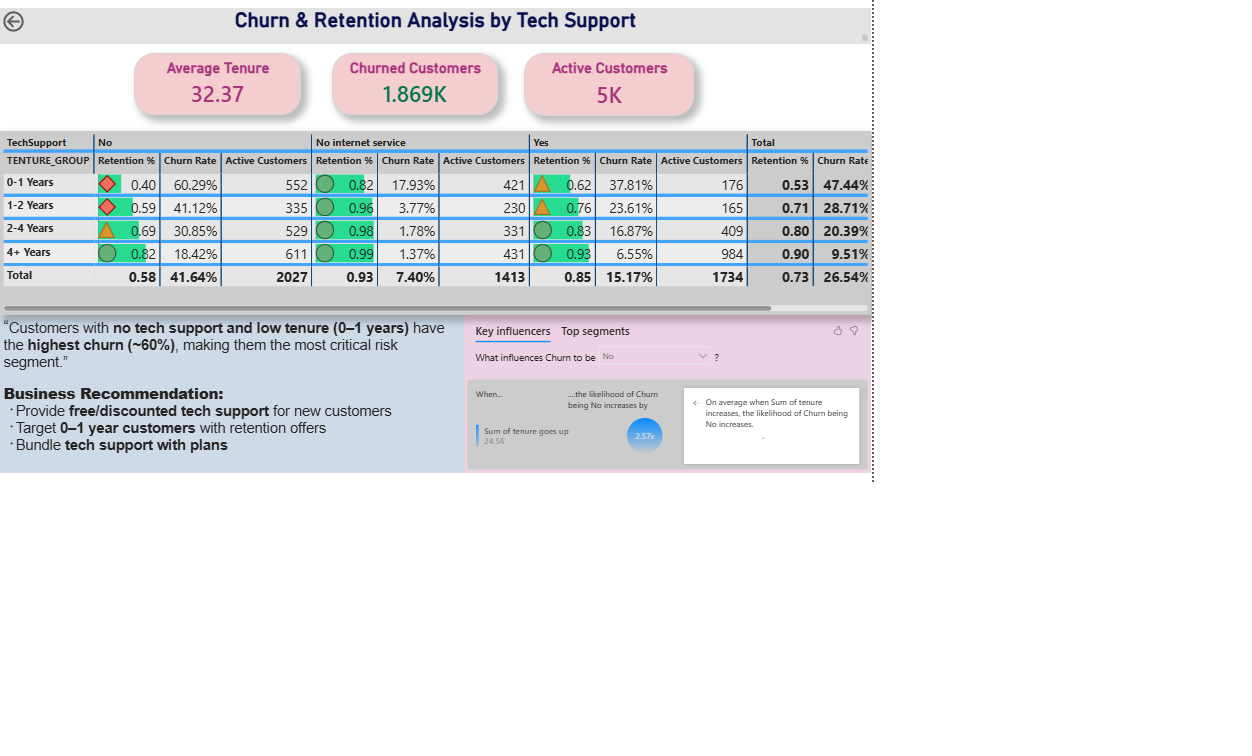

The page's visual inventory and layout, read from the dashboard file:
{"tool":"powerbi","page":{"name":"retention analysis","canvas":[1280,720],"ordinal":1},"visuals":[{"type":"pivotTable","fields":{"Rows":["WA_Fn-UseC_-Telco-Customer-Churn.TENTURE_GROUP"],"Values":["WA_Fn-UseC_-Telco-Customer-Churn.Retention %","WA_Fn-UseC_-Telco-Customer-Churn.Churn Rate","WA_Fn-UseC_-Telco-Customer-Churn.Active Customers"],"Columns":["WA_Fn-UseC_-Telco-Customer-Churn.TechSupport"]},"box":[0,201.6,1280,270.4],"z":0},{"type":"textbox","box":[0,471.7,681.8,232.2],"z":1000},{"type":"textbox","title":"Churn & Retention Analysis by   Tech Support","box":[0,20.6,1279.8,52.9],"z":2000},{"type":"actionButton","box":[0,20.6,99.9,39.7],"z":3000},{"type":"cardVisual","title":"Average Tenure","fields":{"Data":["WA_Fn-UseC_-Telco-Customer-Churn.Avg Tenure"]},"box":[196.5,87.3,245.2,90.7],"z":4000},{"type":"cardVisual","title":"Active Customers","fields":{"Data":["WA_Fn-UseC_-Telco-Customer-Churn.Active Customers"]},"box":[769.3,87.3,250.3,92.4],"z":5000},{"type":"cardVisual","title":"Churned Customers","fields":{"Data":["CountNonNull(WA_Fn-UseC_-Telco-Customer-Churn.customerID)"]},"box":[487.1,87.3,243.6,90.7],"z":6000},{"type":"keyDriversVisual","fields":{"ExplainBy":["Sum(WA_Fn-UseC_-Telco-Customer-Churn.tenure)","WA_Fn-UseC_-Telco-Customer-Churn.TechSupport","WA_Fn-UseC_-Telco-Customer-Churn.OnlineSecurity","WA_Fn-UseC_-Telco-Customer-Churn.InternetService","WA_Fn-UseC_-Telco-Customer-Churn.PaymentMethod","Sum(WA_Fn-UseC_-Telco-Customer-Churn.MonthlyCharges)"],"Target":["WA_Fn-UseC_-Telco-Customer-Churn.Churn"]},"box":[681.8,471.7,598,232.2],"z":6001}]}

Visuals, with their boxes on the page's 1280x720 design canvas (x1, y1, x2, y2). These are canvas units, not pixel positions in the 1252x756 screenshot, which may show the page scaled, cropped or inside an application window:
pivotTable - WA_Fn-UseC_-Telco-Customer-Churn.TENTURE_GROUP x WA_Fn-UseC_-Telco-Customer-Churn.Retention %: [0,202,1280,472]
textbox: [0,472,682,704]
"Churn & Retention Analysis by   Tech Support" textbox: [0,21,1280,74]
actionButton: [0,21,100,60]
"Average Tenure" cardVisual: [196,87,442,178]
"Active Customers" cardVisual: [769,87,1020,180]
"Churned Customers" cardVisual: [487,87,731,178]
keyDriversVisual - Sum(WA_Fn-UseC_-Telco-Customer-Churn.tenure) x WA_Fn-UseC_-Telco-Customer-Churn.TechSupport: [682,472,1280,704]
